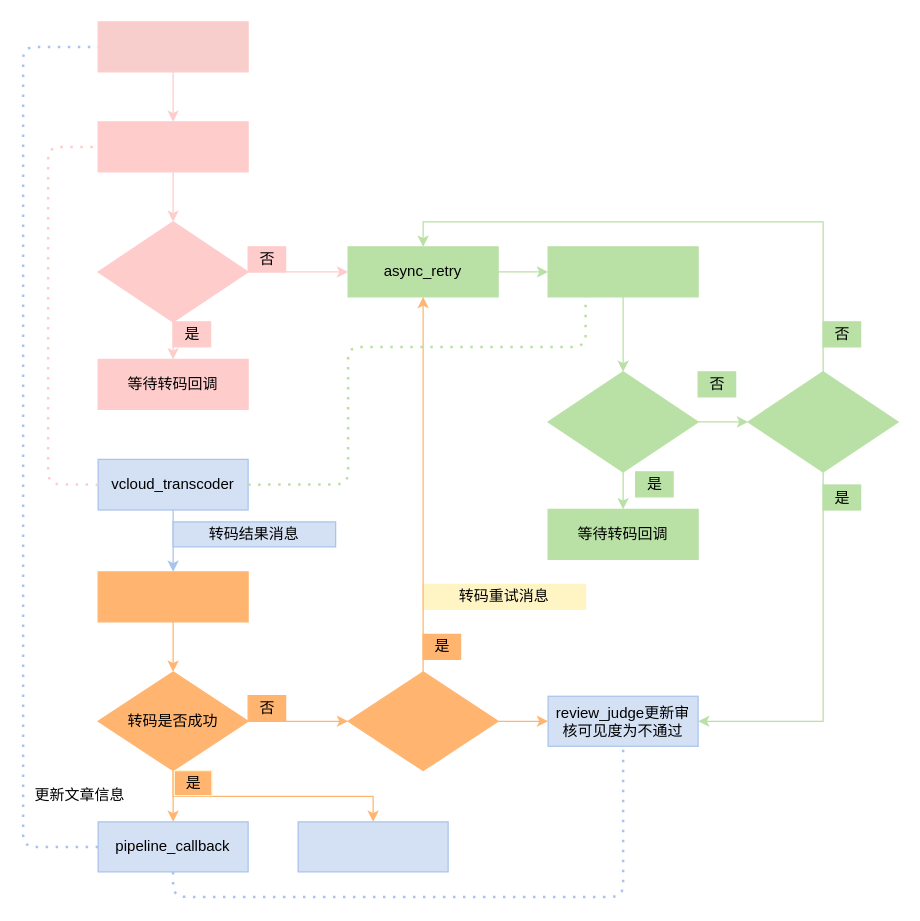
Some shapes in this 920 by 921 pixel diagram are drawn without their labels. Here are the shapes that lost their labels. From the top down, the box of each, then its label:
(97, 21, 248, 72): publish_item
(97, 121, 248, 172): 触发转码
(97, 221, 248, 322): 触发是否成功
(547, 246, 698, 297): 重新触发转码
(547, 371, 698, 472): 触发成功
(747, 371, 898, 472): 是否到达 最大重试次数
(97, 571, 248, 622): transcode_sync
(347, 671, 498, 771): 是否可重试
(297, 821, 448, 872): pipeline
